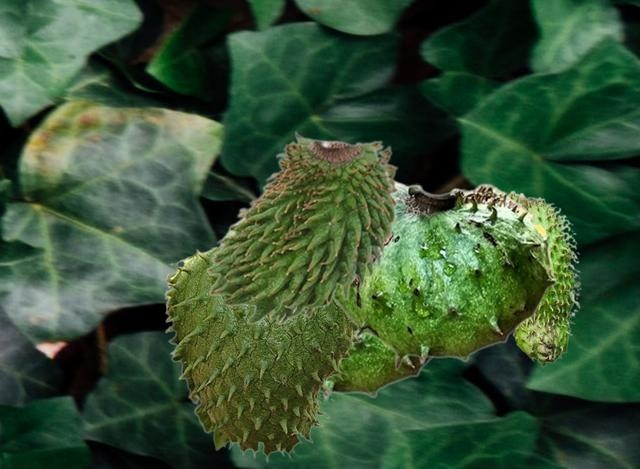guyabano: (164, 245, 362, 462), (334, 181, 556, 370), (218, 219, 434, 400), (205, 130, 399, 324), (509, 190, 581, 366)
